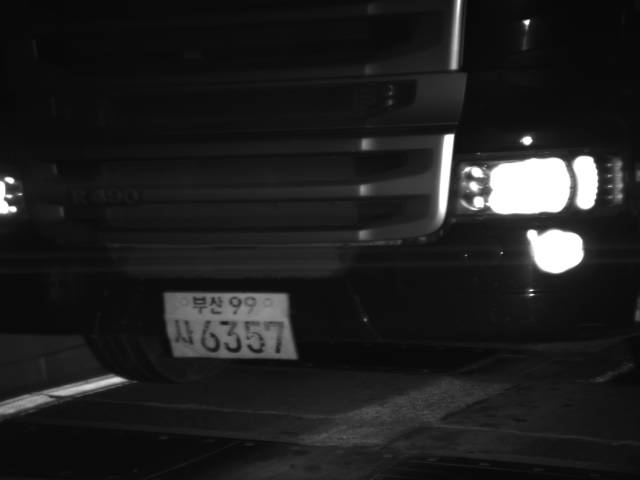car: (1, 1, 638, 384)
plate: (159, 288, 303, 362)
